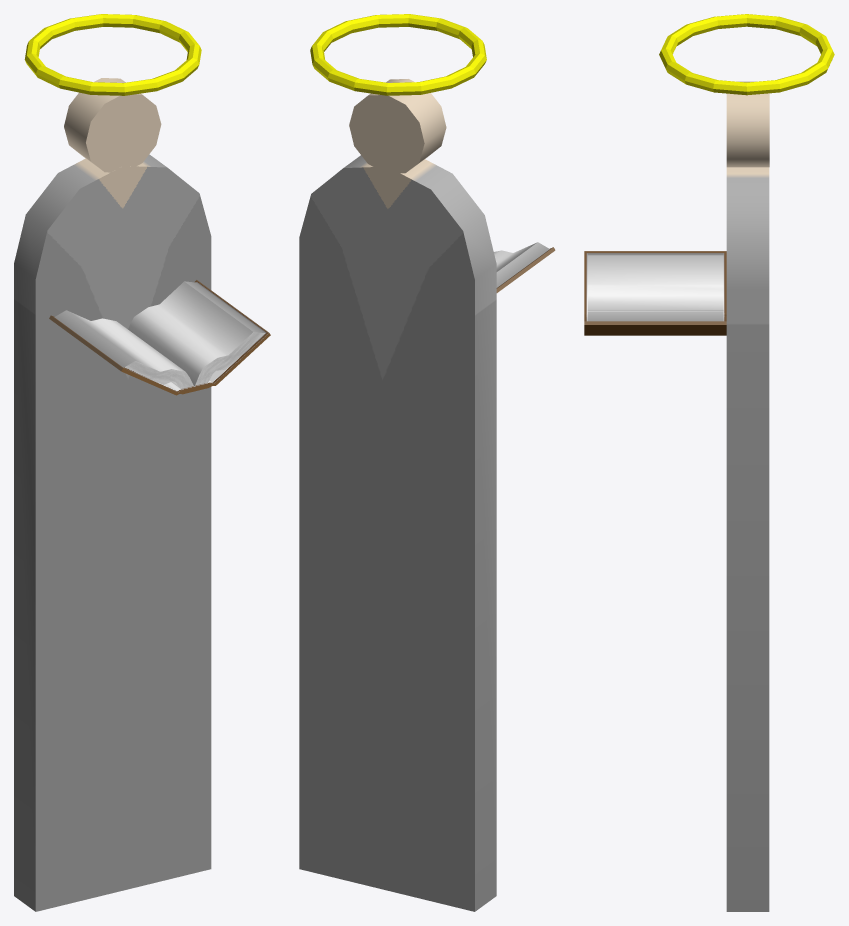
File: StageChoirHalo.obj
3 views of the same model, side by side, from view 1: azimuth 30°, elevation 25°; view 2: azimuth 150°, elevation 25°; view 3: azimuth 270°, elevation 25° (orthographic).
Visible parts, largest first — view 1: StageChoir, Torus.001; view 2: StageChoir, Torus.001; view 3: StageChoir, Torus.001.
Part boxes in pixels (x1=…): StageChoir: x1=14, y1=78, x2=270, y2=911; Torus.001: x1=24, y1=14, x2=201, y2=95; StageChoir: x1=299, y1=79, x2=555, y2=911; Torus.001: x1=310, y1=14, x2=486, y2=95; StageChoir: x1=584, y1=81, x2=769, y2=911; Torus.001: x1=659, y1=14, x2=834, y2=95.
Size of the model in its own units: 14 by 63.55 by 17.57.
Materials: 2 (2 with a texture image).
